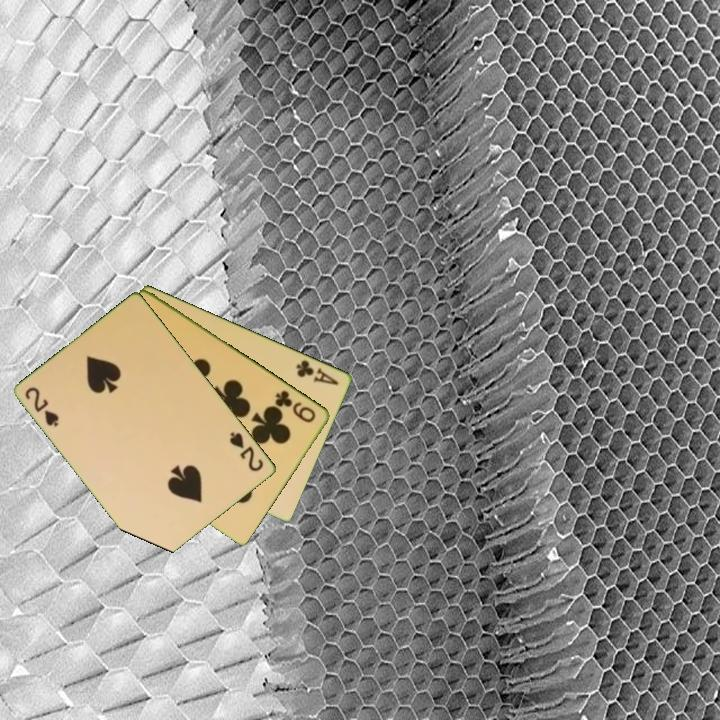2s: (22, 383, 63, 430), (226, 428, 267, 474)
9c: (272, 386, 319, 426)
Ac: (293, 356, 342, 388)
